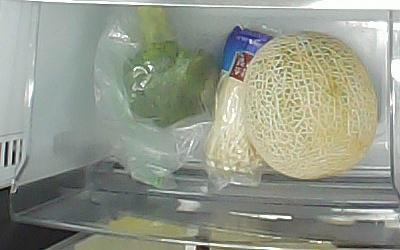broccoli_vinyl: (123, 6, 219, 126)
melon: (243, 31, 379, 180)
mushroom_vinyl: (210, 27, 271, 175)
